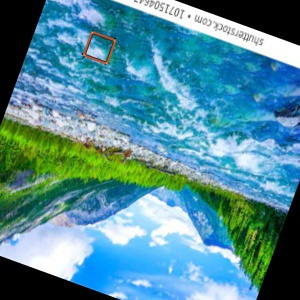square: (80, 29, 117, 67)
